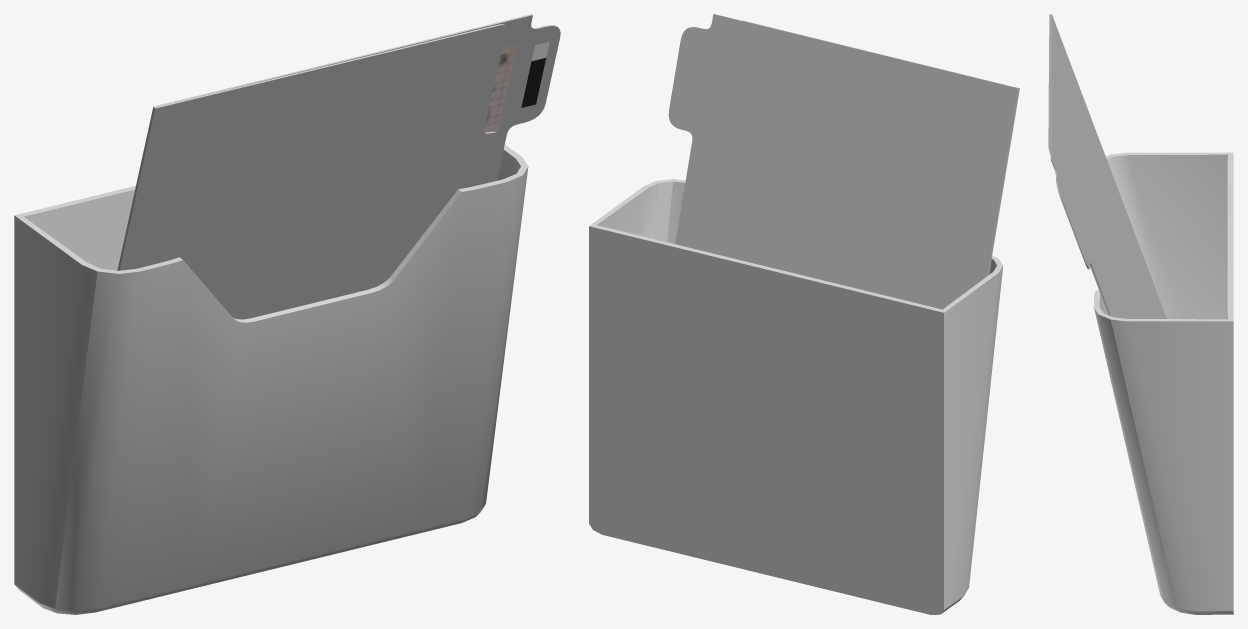
The model's file is patient_folder.fbx.
3 views of the same model, side by side, from view 1: azimuth 30°, elevation 25°; view 2: azimuth 150°, elevation 25°; view 3: azimuth 270°, elevation 25° (orthographic). The views are drawn at different scales.
Visible parts, largest first — view 1: KB3D_ECE_BldgIntHallway_A_FolderHolder; view 2: KB3D_ECE_BldgIntHallway_A_FolderHolder; view 3: KB3D_ECE_BldgIntHallway_A_FolderHolder.
Boxes of the visible parts, x1,y1,x2,y2 form: KB3D_ECE_BldgIntHallway_A_FolderHolder: [14, 14, 560, 614]; KB3D_ECE_BldgIntHallway_A_FolderHolder: [589, 14, 1019, 614]; KB3D_ECE_BldgIntHallway_A_FolderHolder: [1048, 14, 1233, 614].
Bounding box in the file's own units: 29.54 × 36.32 × 13.7.
